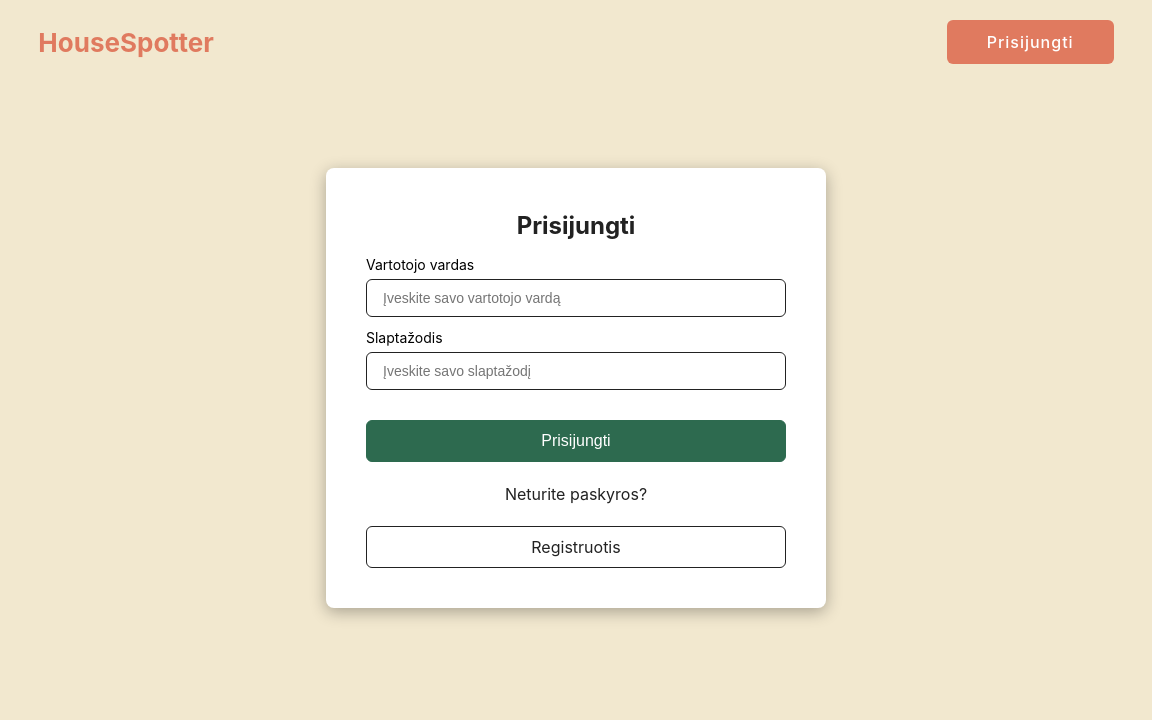
Prisijungimo funkcionalumas › Sėkmingai prisijungia su teisingais duomenimis
The image size is (1152, 720).
Step 1. Type "user" into the field named "text" → (576, 298), box [366,279,786,317]
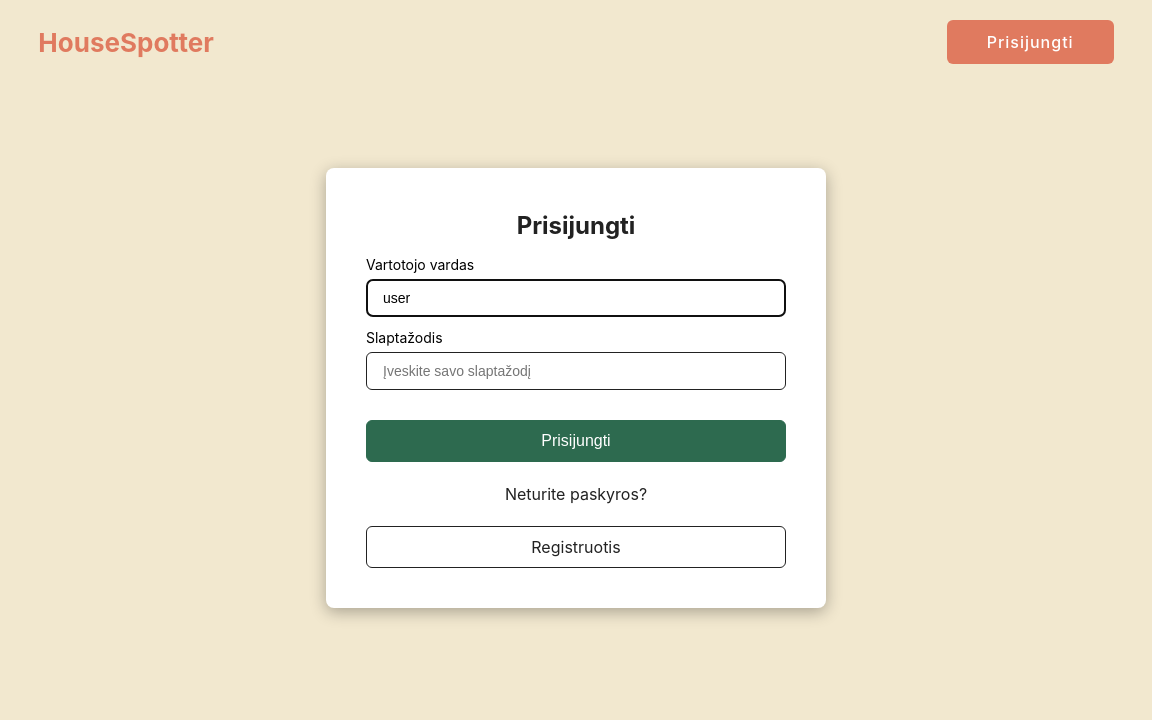
Step 2. Type "password" into the password field named "password" → (576, 371), box [366,352,786,390]
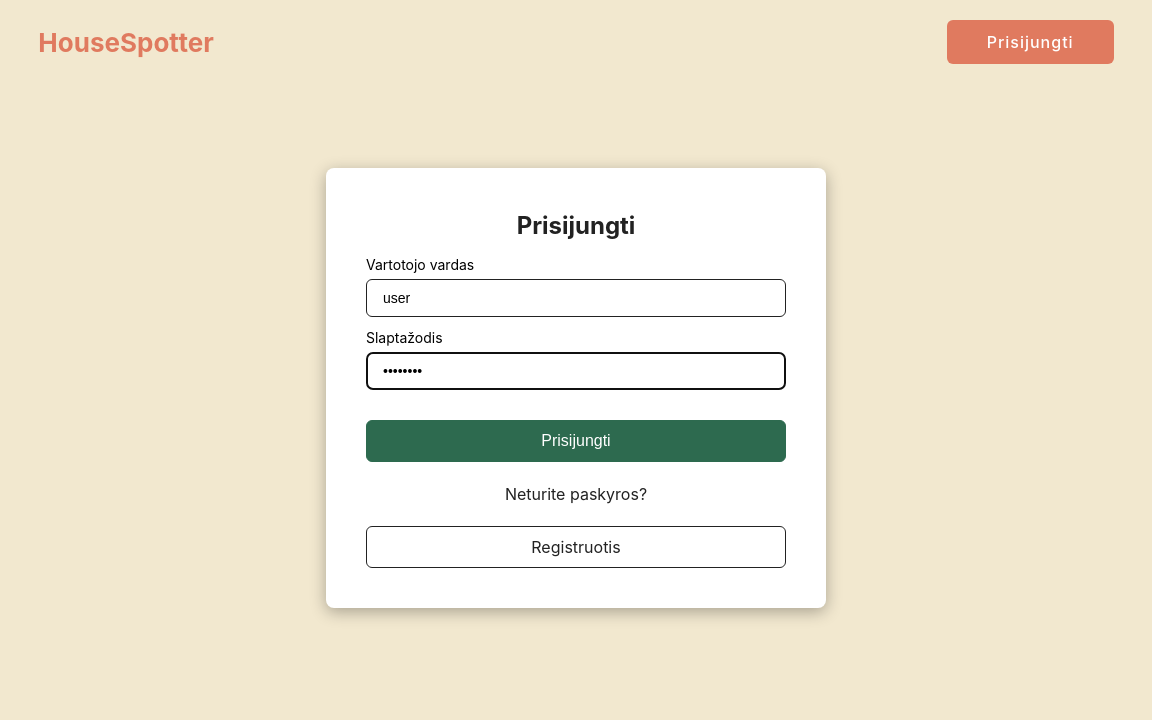
Step 3. Click the submit button → (576, 441), box [366,420,786,462]
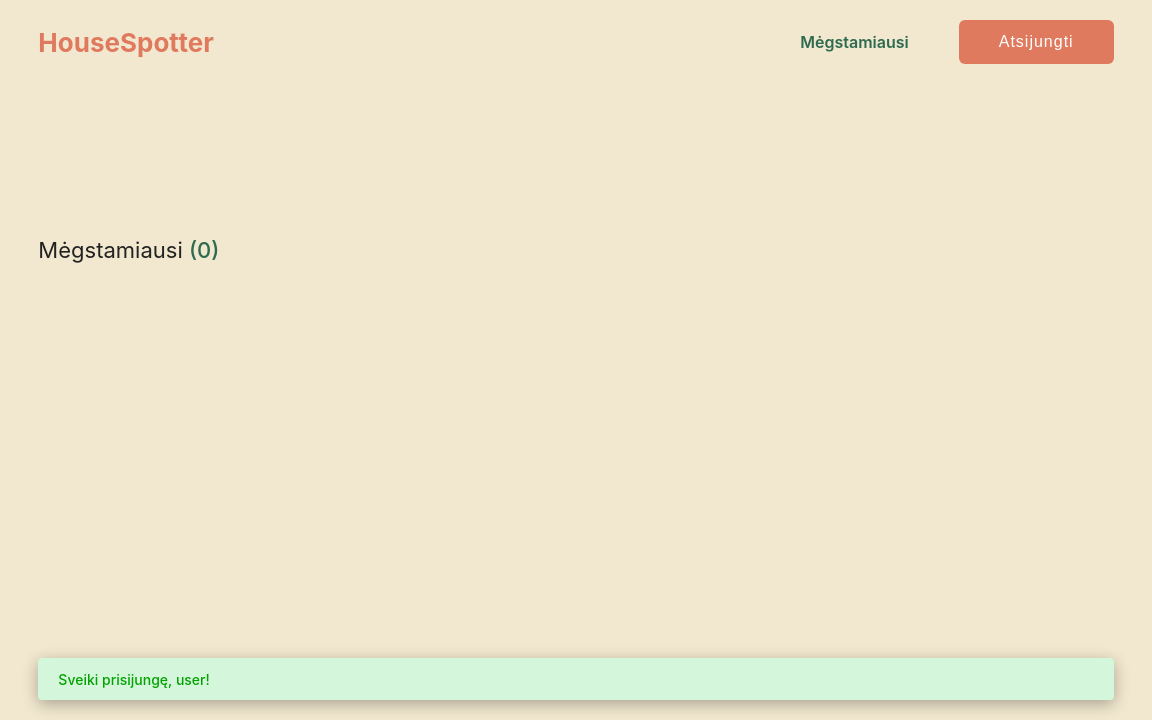
Result: the text "Sveiki prisijungę, user!" is shown at [38,658,1114,700]
